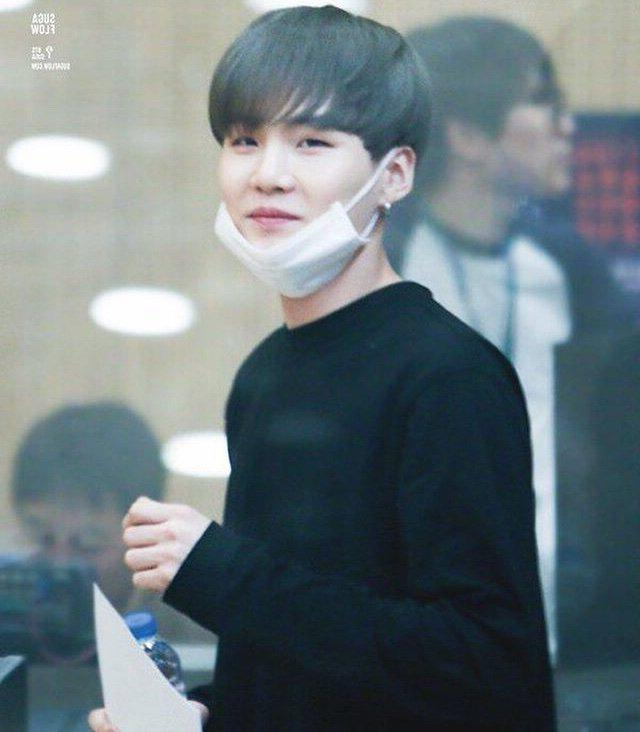mask_weared_incorrect: (212, 134, 362, 293)
without_mask: (506, 84, 592, 204)
